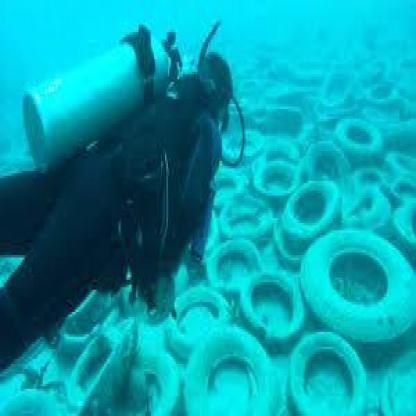tire: (288, 226, 416, 408), (191, 309, 298, 416), (241, 250, 322, 362), (279, 163, 359, 275), (219, 186, 300, 280), (334, 106, 402, 196), (284, 337, 359, 416), (174, 284, 232, 356)
